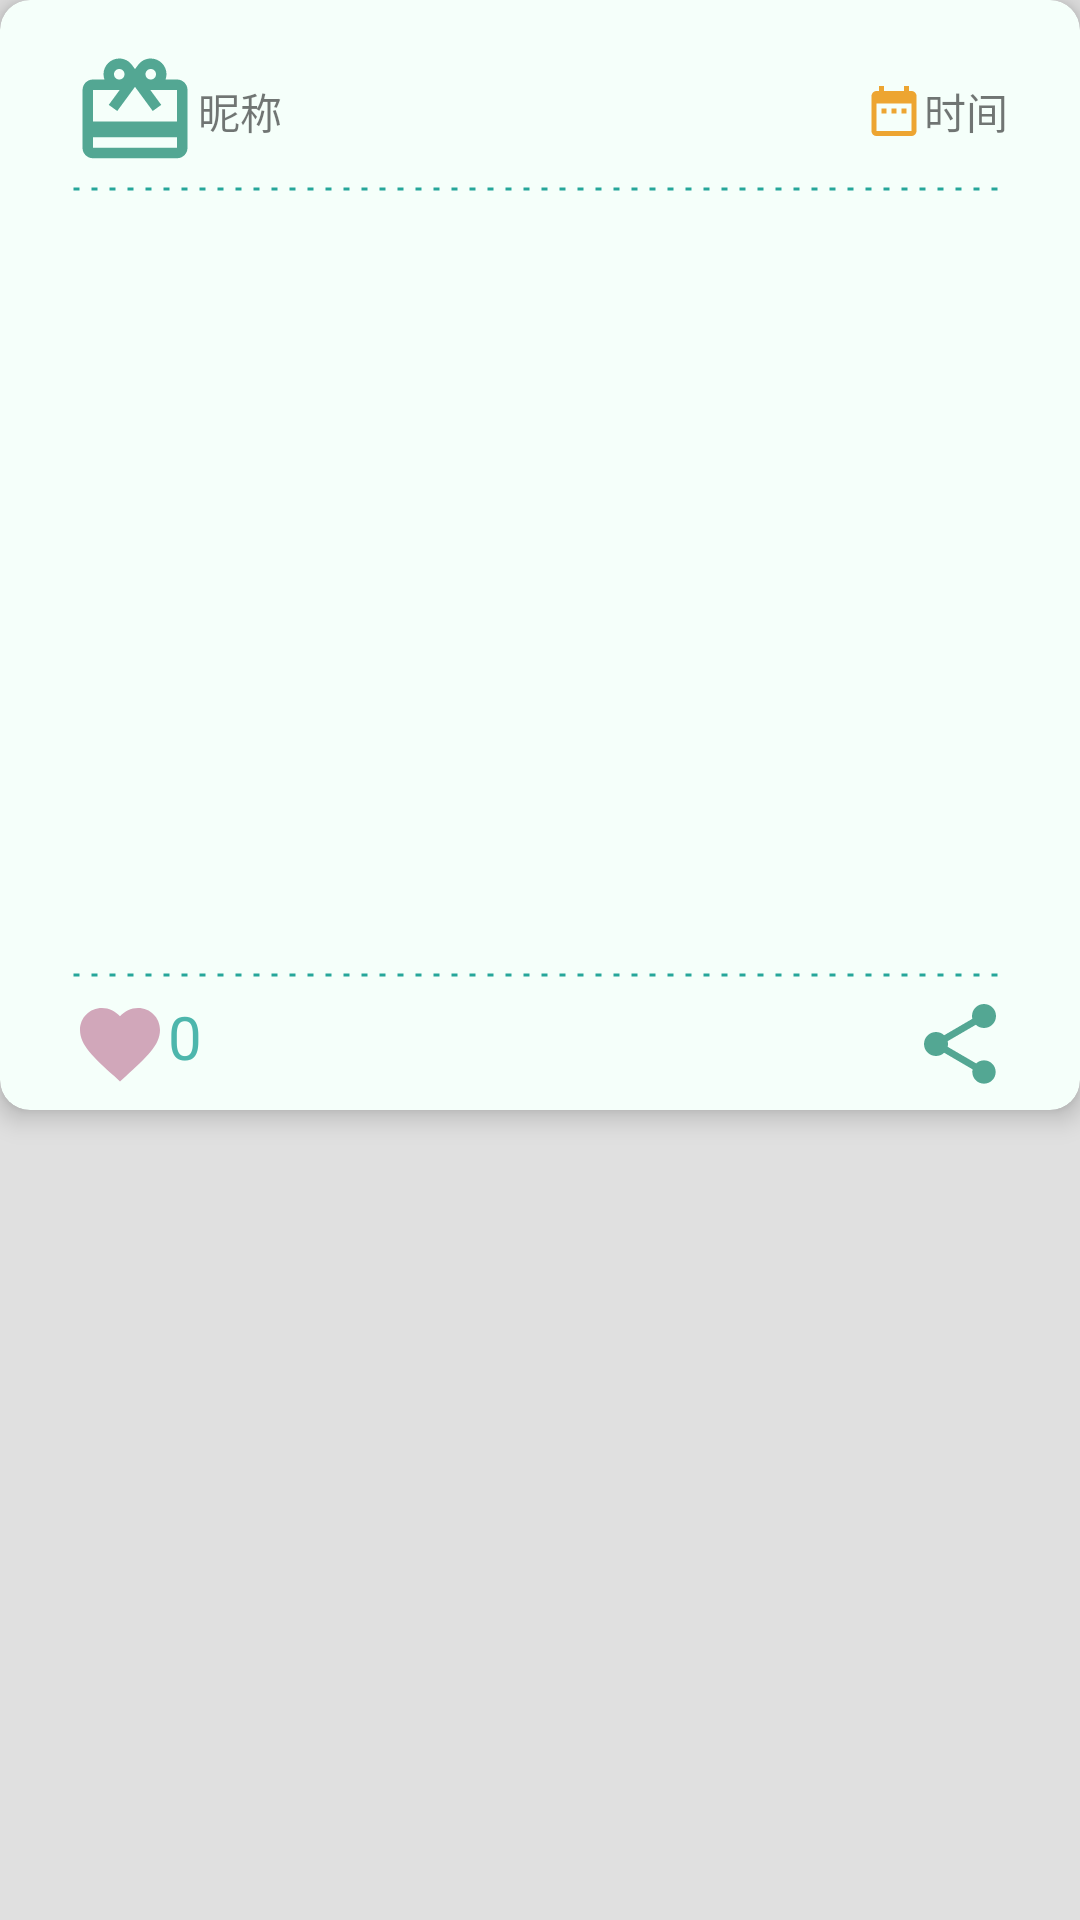

Where icons sit on this 1080*1920 app screen, as (x1, y1, x2, y2):
date range: (871, 86, 917, 136)
favorite: (80, 1008, 160, 1081)
redeem: (82, 58, 188, 159)
share: (924, 1004, 996, 1084)
